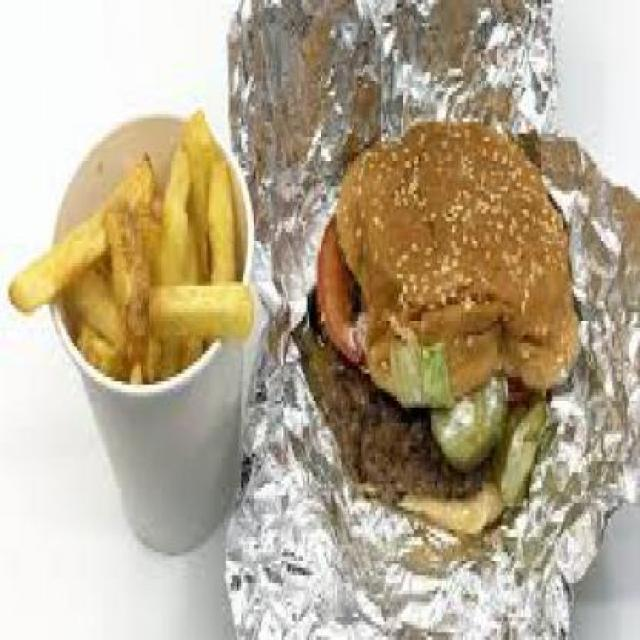french fries: (2, 106, 258, 423)
hamburger: (290, 110, 578, 548)
